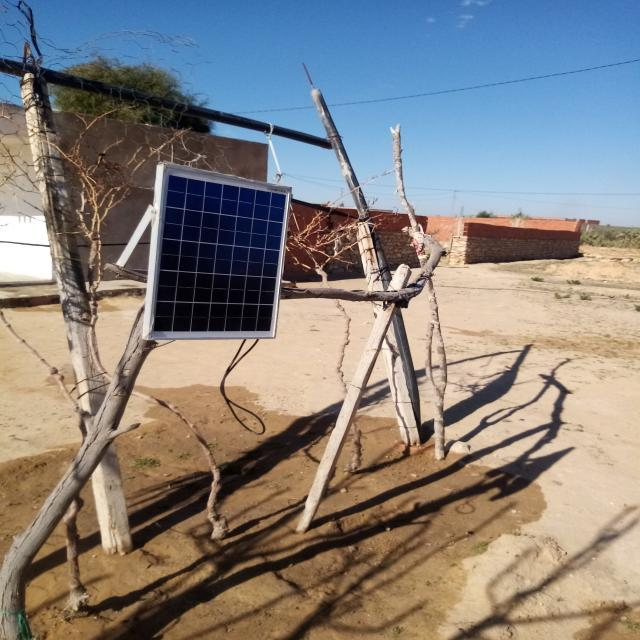no faulty: (147, 163, 292, 340)
